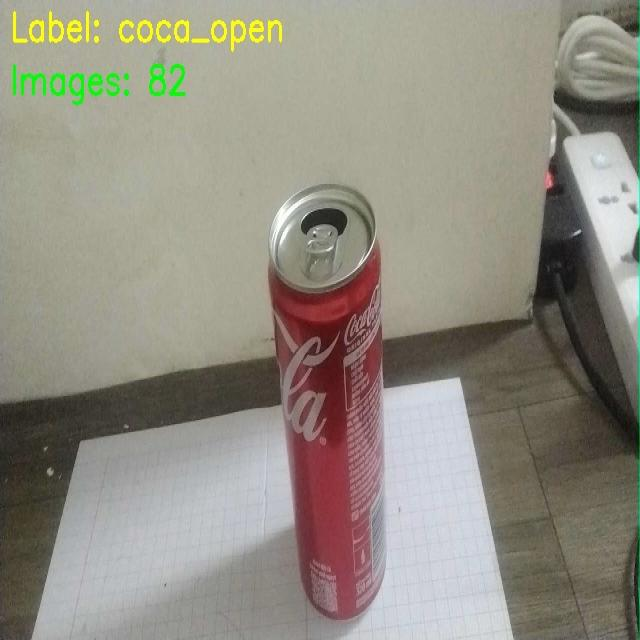Coca_open: (258, 167, 397, 627)
